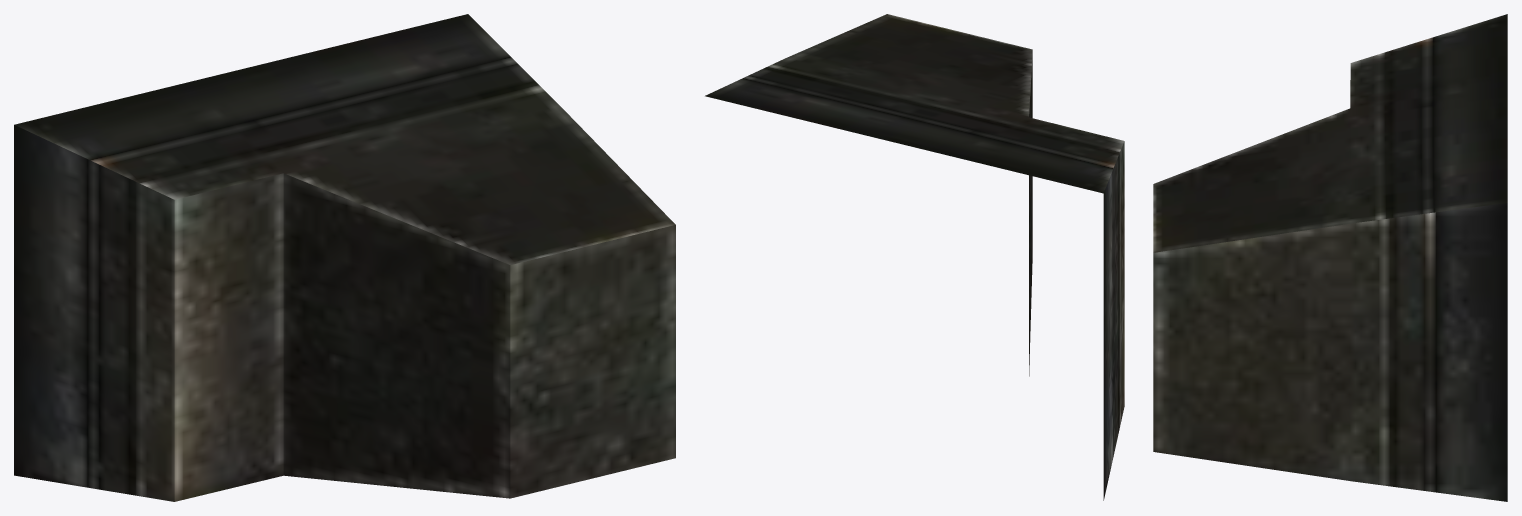
3 renders of one model, left to right at view 1: azimuth 30°, elevation 25°; view 2: azimuth 150°, elevation 25°; view 3: azimuth 270°, elevation 25°, orthographic. The views are drawn at different scales.
Parts seen in each view (by area): view 1: model_Object84; view 2: model_Object84; view 3: model_Object84.
Boxes of the visible parts, x1=… form: model_Object84: x1=14, y1=14, x2=675, y2=501; model_Object84: x1=705, y1=14, x2=1124, y2=500; model_Object84: x1=1153, y1=14, x2=1507, y2=501.
Size of the model in its own units: 3.1 by 2.29 by 2.46.
1 material, 1 textured.
